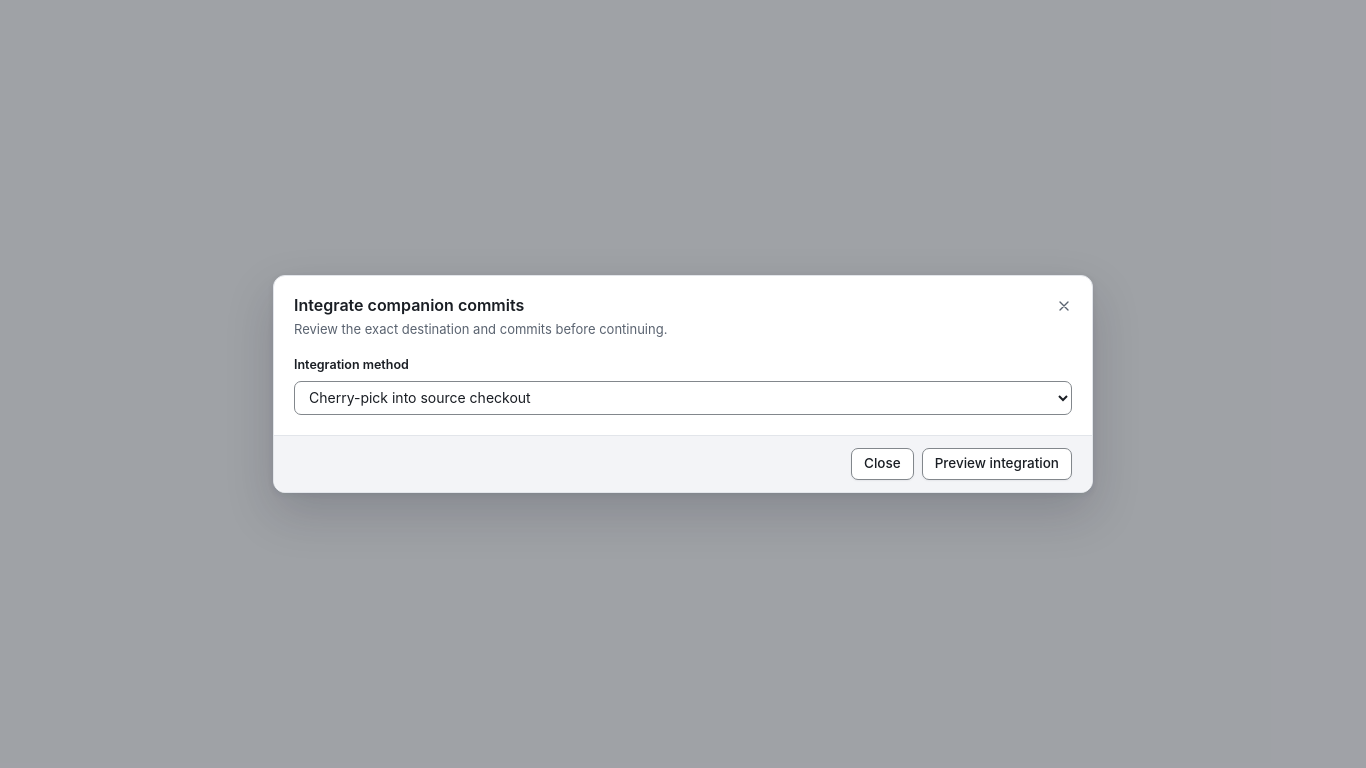
Test: refuses dirty source and clears the preview when changing methods
The width and height of the screenshot is (1366, 768).
Click the button "Preview integration" at (997, 464), box [922,448,1072,480]
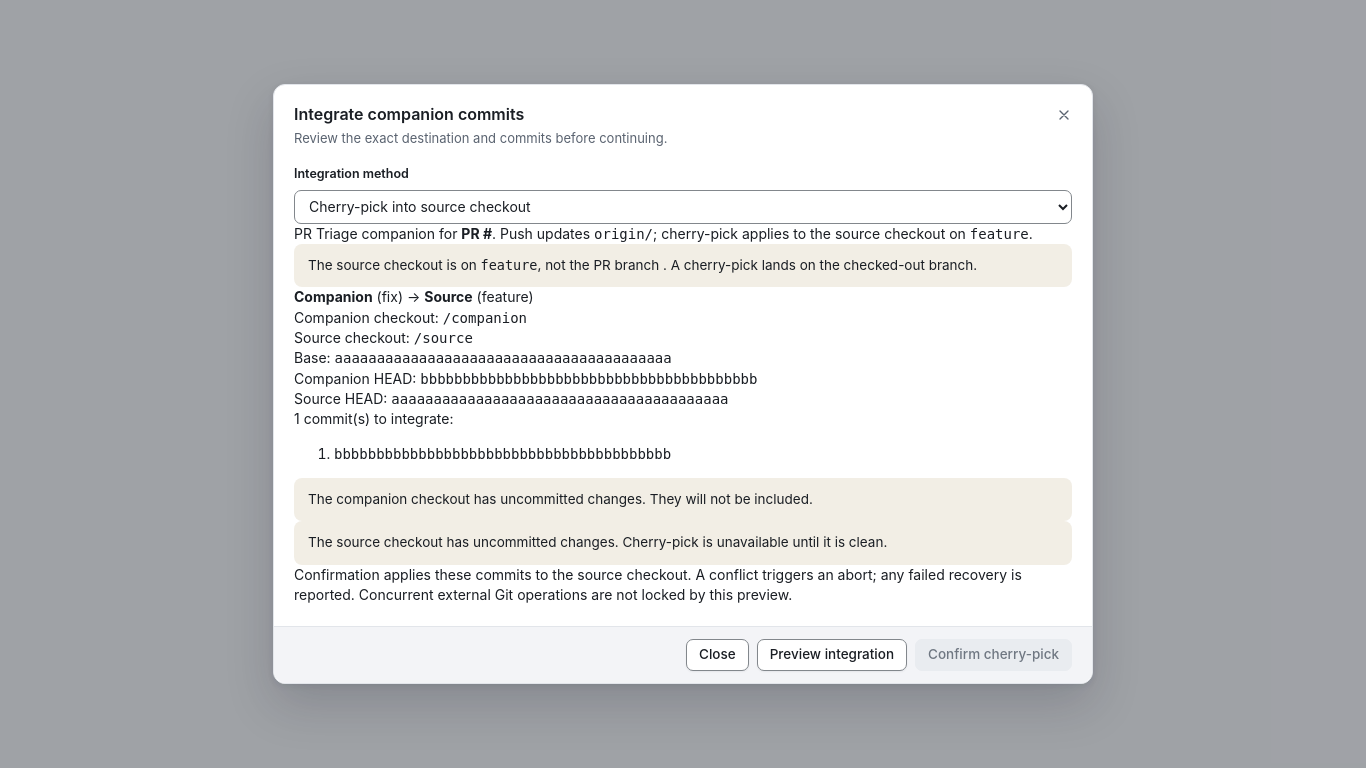
Expected: the text "source checkout has uncommitted changes" is shown, [308,534,887,550]
Expected: the button "Confirm cherry-pick" is disabled, [915,638,1072,670]
Select "Push to source branch on origin" in the dropdown labelled "Integration method" at (683, 207), box [294,190,1072,224]
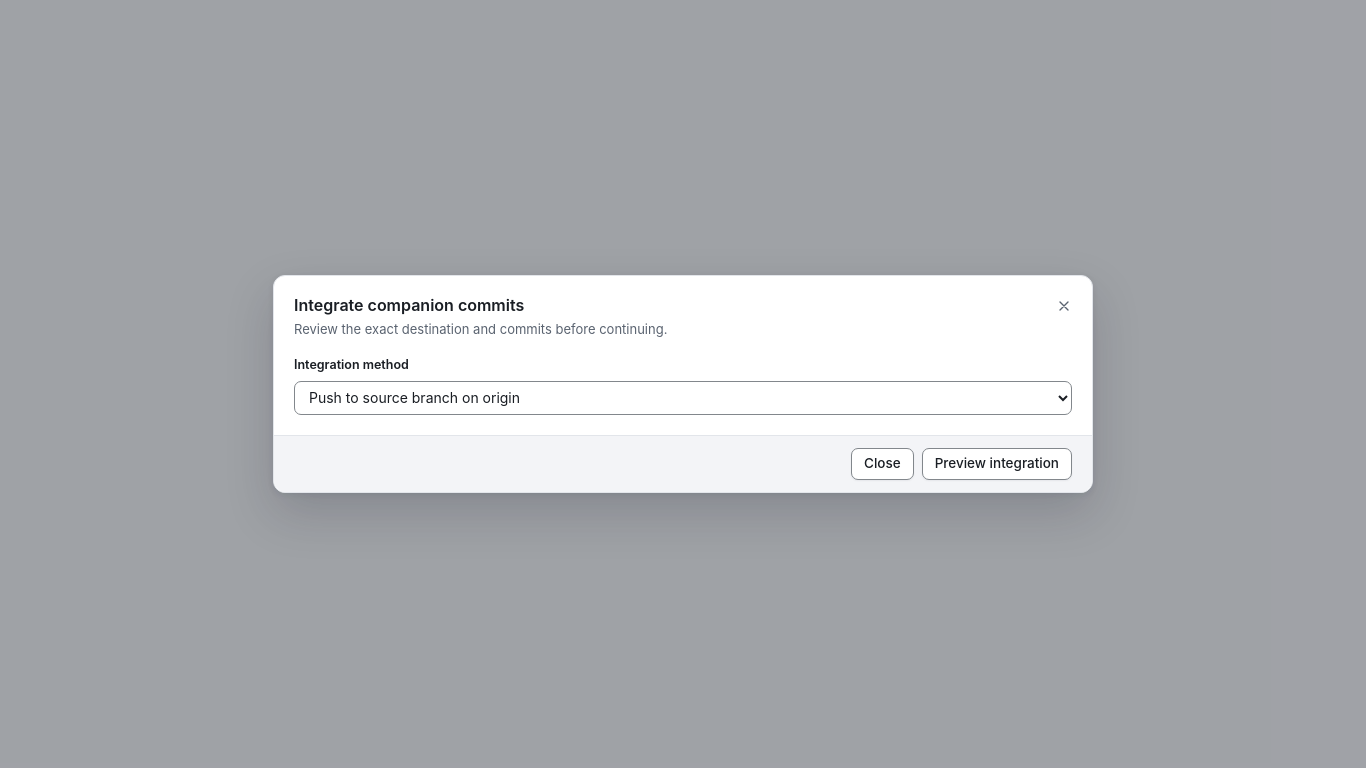
Expected: the text "Confirm" is gone
